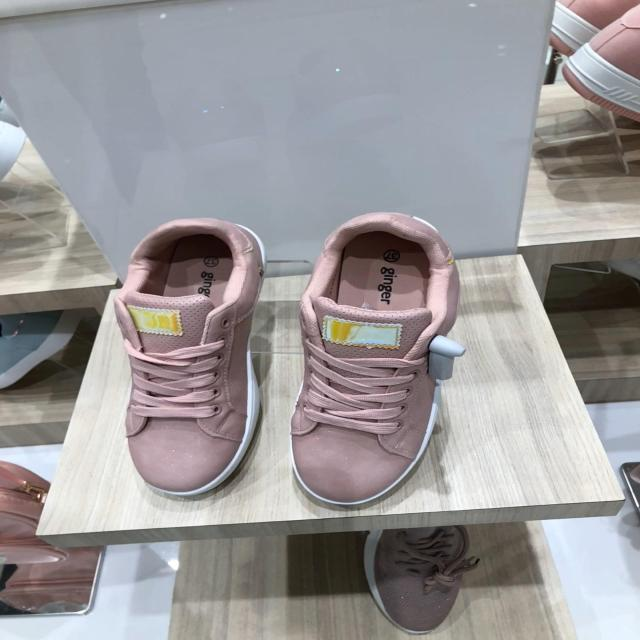shoe: (290, 213, 463, 511), (108, 220, 265, 495)
